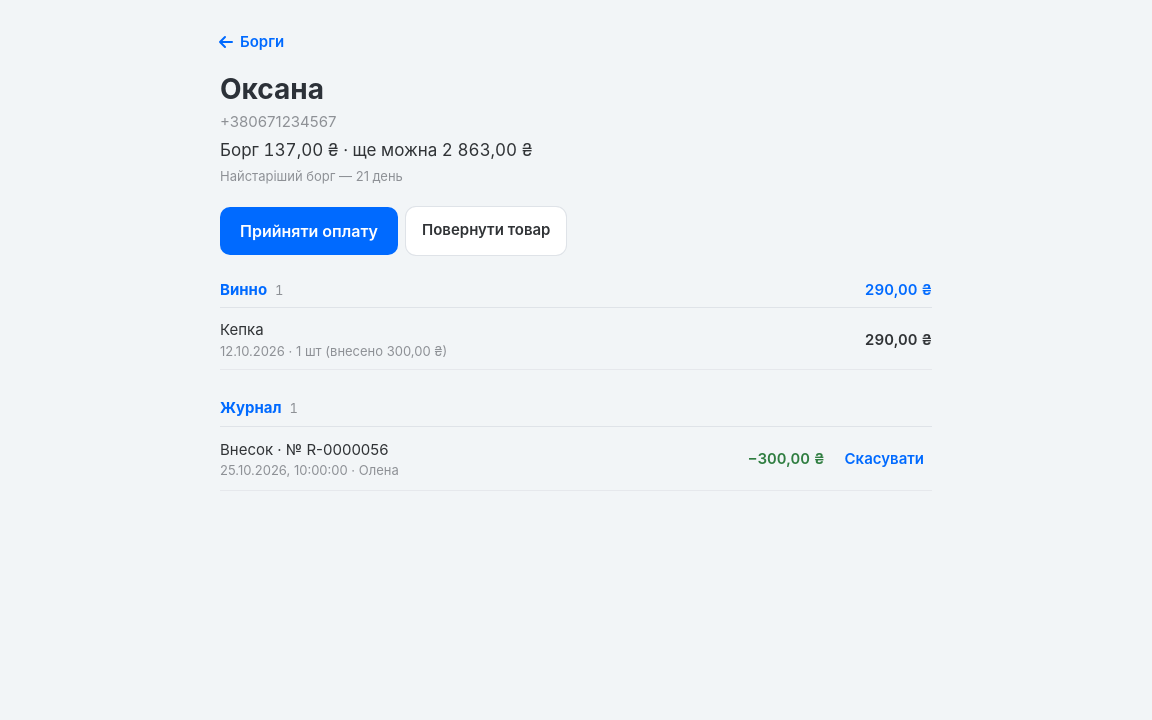
Scenario: one customer’s statement › keeps the sheet up with the server’s words when the undo is refused
The width and height of the screenshot is (1152, 720).
Expected: the heading "Оксана" is shown, x1=220 y1=72 x2=324 y2=106
What coordinates should you click on to do the following:
click the button "Скасувати"
I would click on:
 (884, 460)
Its box is x1=836 y1=438 x2=932 y2=482.
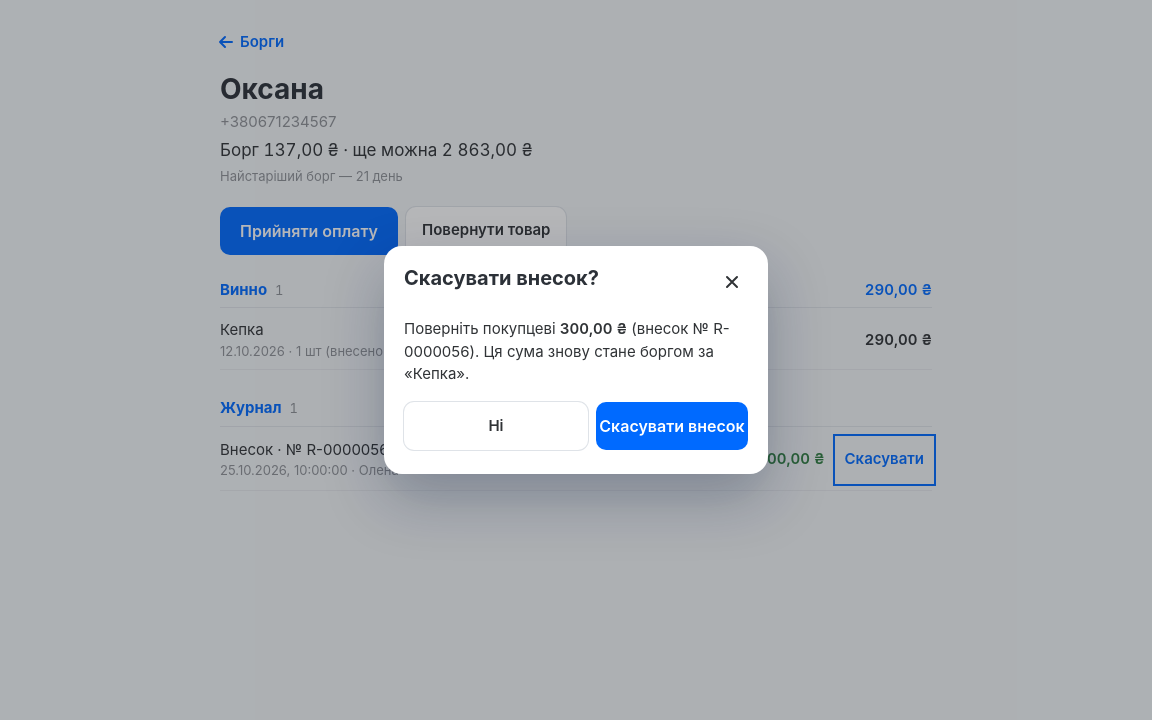
What coordinates should you click on to do the following:
click the button "Скасувати внесок"
I would click on:
 (672, 426)
Its box is x1=596 y1=402 x2=748 y2=450.
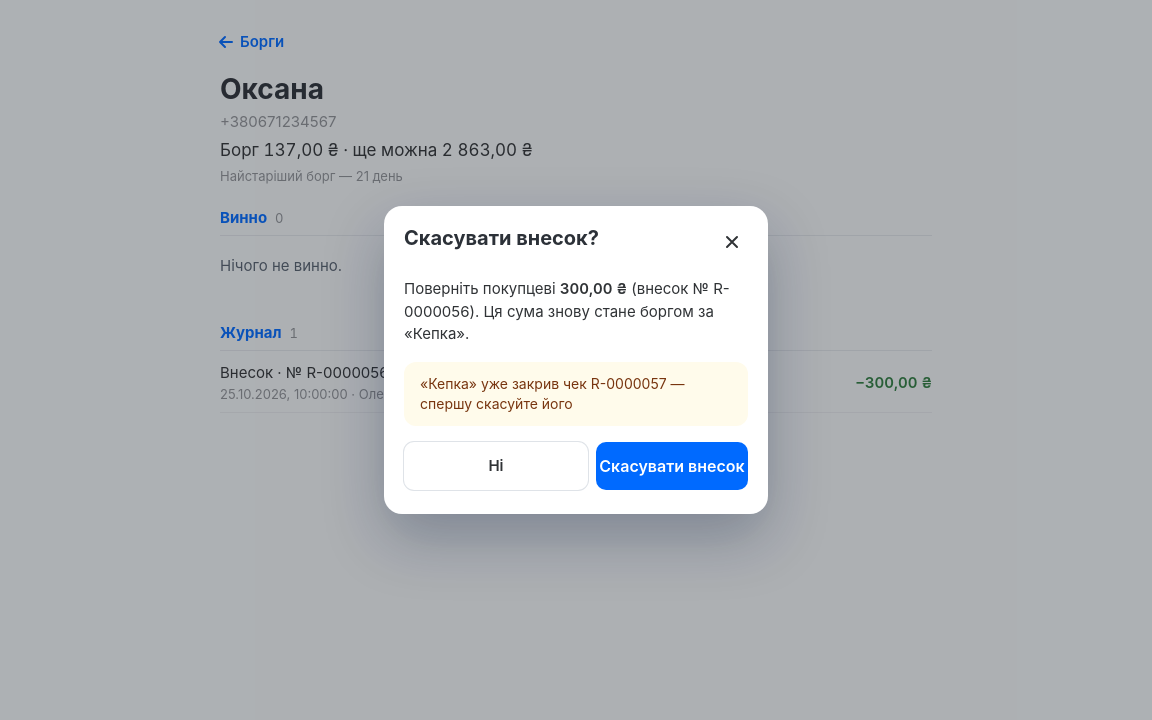
Now the dialog with test id "debts-undo-prepay" is shown, box x1=384 y1=206 x2=768 y2=514
Now the message shows "уже закрив чек R-0000057", box x1=420 y1=375 x2=685 y2=412
Now the text "Нічого не винно." is shown, box x1=220 y1=256 x2=342 y2=275
